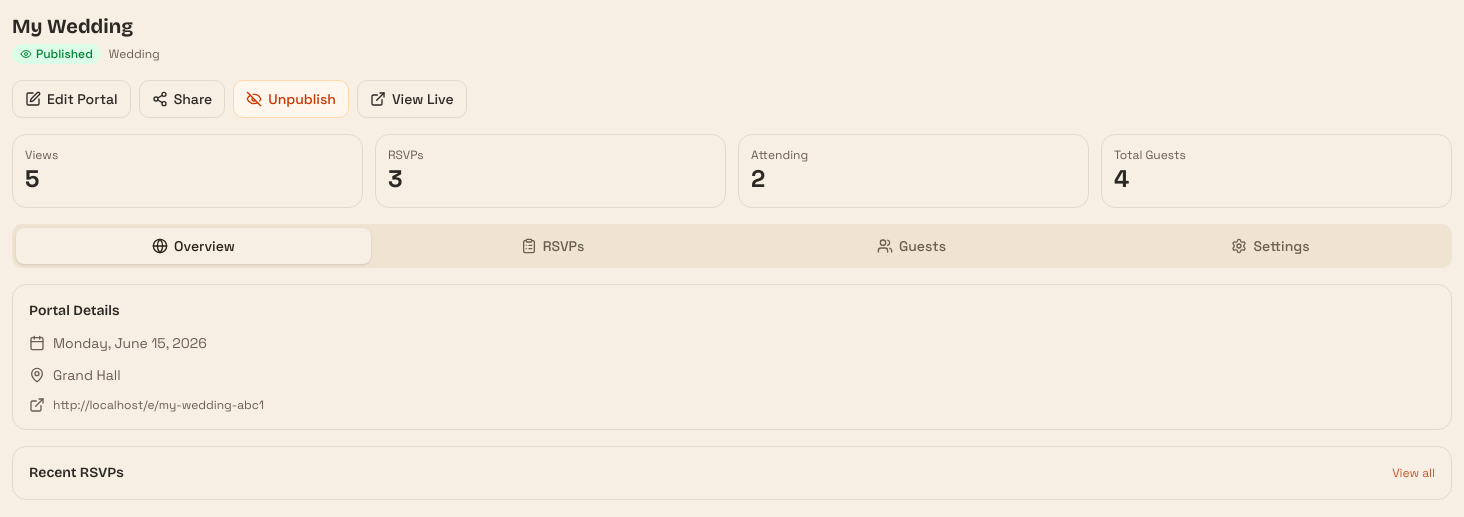
Test case: PortalDashboard › switches to settings tab and shows settings toggle
The width and height of the screenshot is (1464, 517).
Click the button with test id "tab-settings".
click(1270, 246)  # box [1093,228,1448,264]
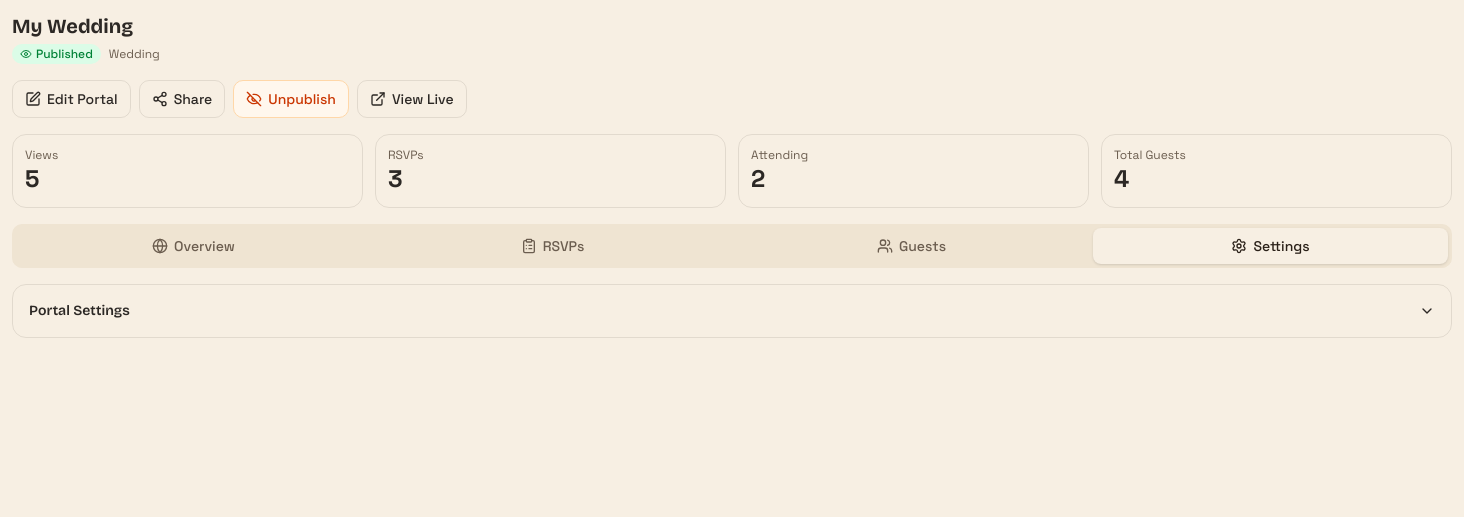
Expected: the element with test id "tab-settings-content" is shown, [12,284,1452,338]
Expected: the button with test id "settings-toggle" is shown, [13,285,1451,337]
